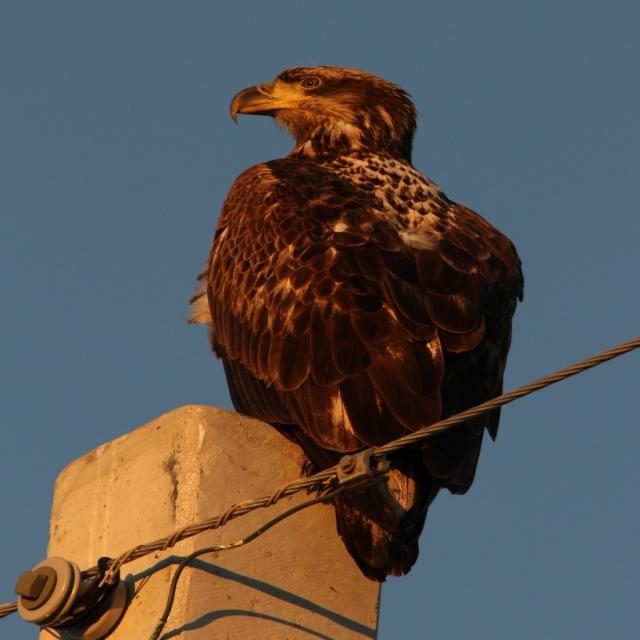bird: (163, 49, 522, 574)
